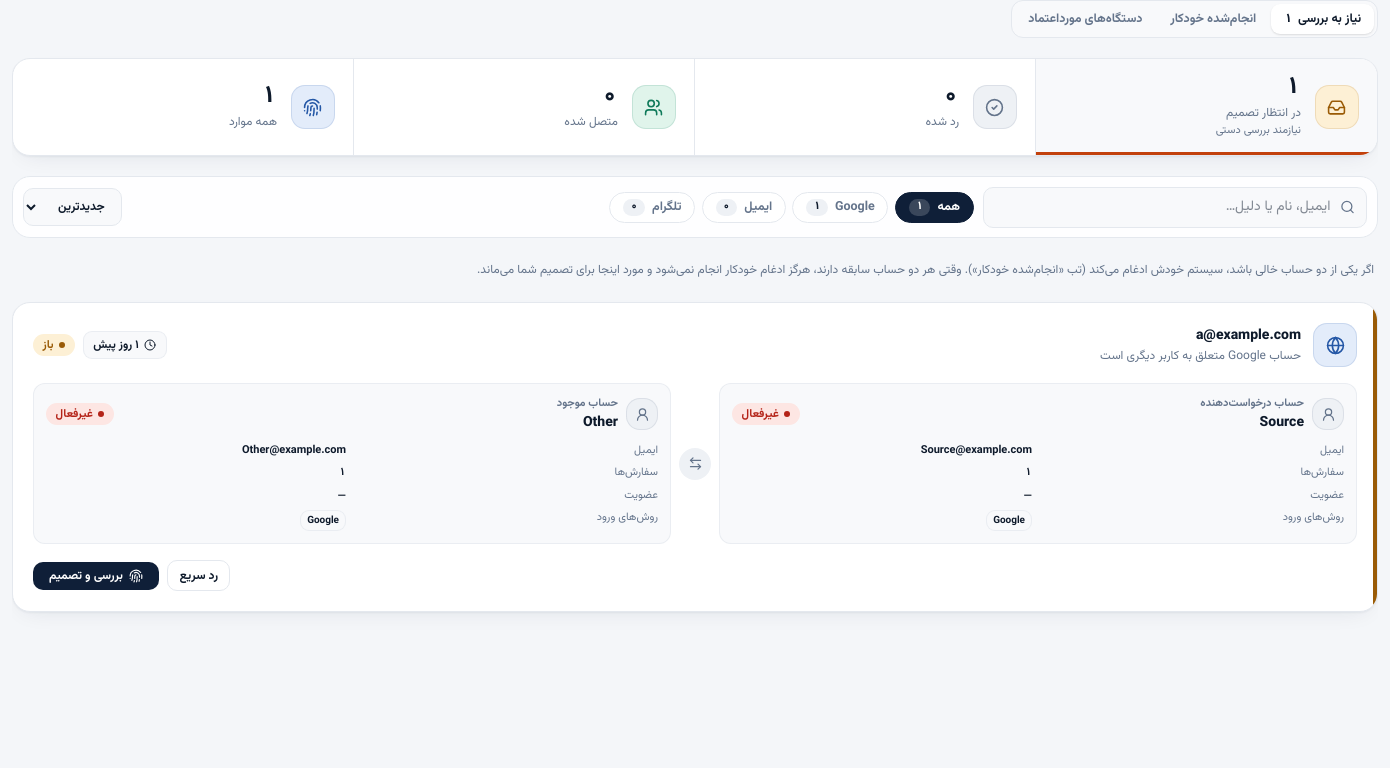
Scenario: admin «هویت» hub › switches to the automatic merges report and to trusted devices
The width and height of the screenshot is (1390, 768).
Click the radio button labelled "انجام‌شده خودکار".
click(1213, 19)  # box top-left (1157, 4), bottom-right (1269, 34)
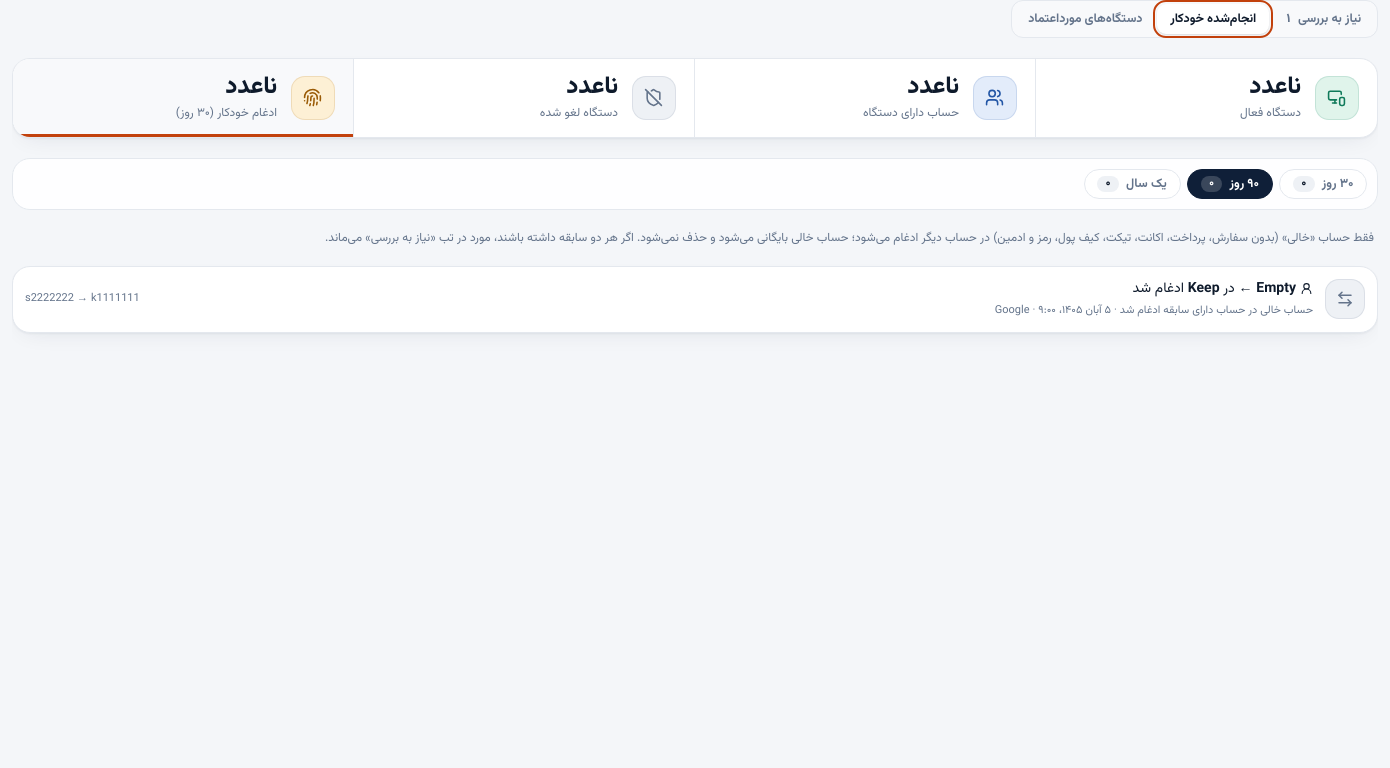
Expected: the text "Empty" is shown, top-left (1256, 278), bottom-right (1296, 300)
Click the radio button labelled "دستگاه‌های مورداعتماد".
click(1085, 19)  # box top-left (1015, 4), bottom-right (1155, 34)
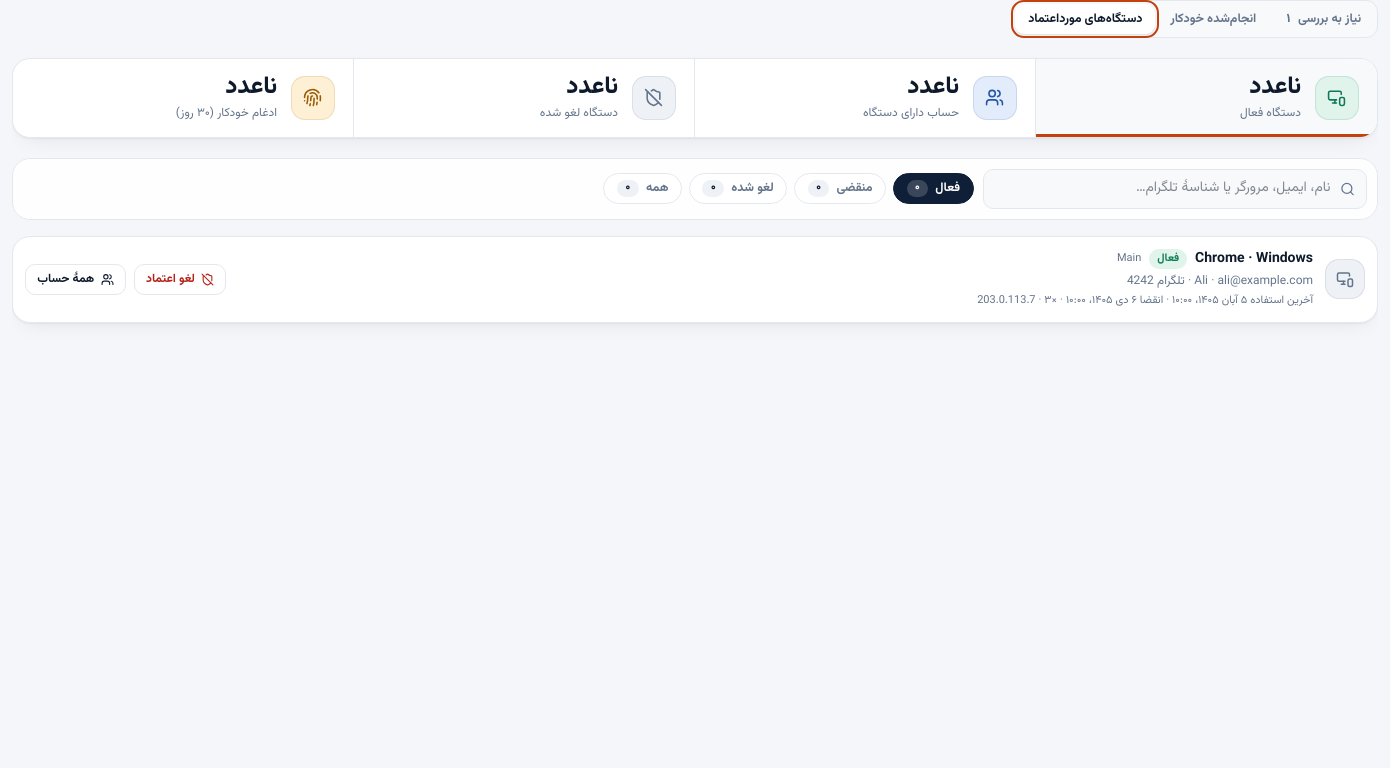
Expected: the text "Chrome · Windows" is shown, top-left (1195, 249), bottom-right (1313, 269)
